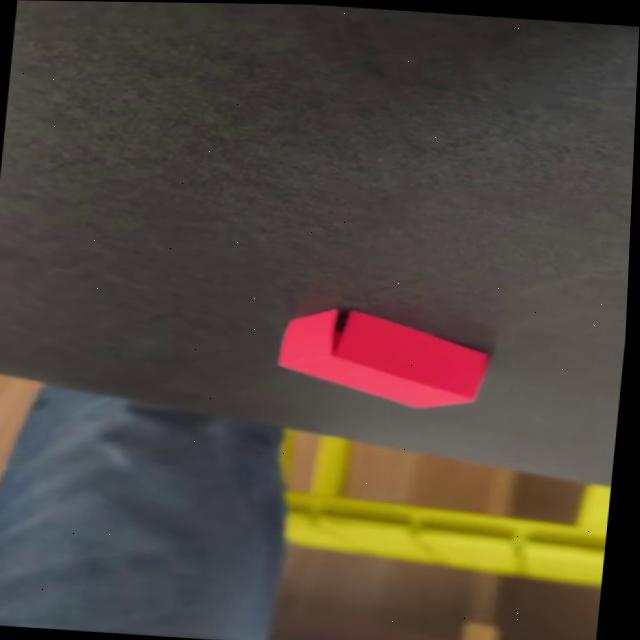red block: (270, 303, 494, 414)
